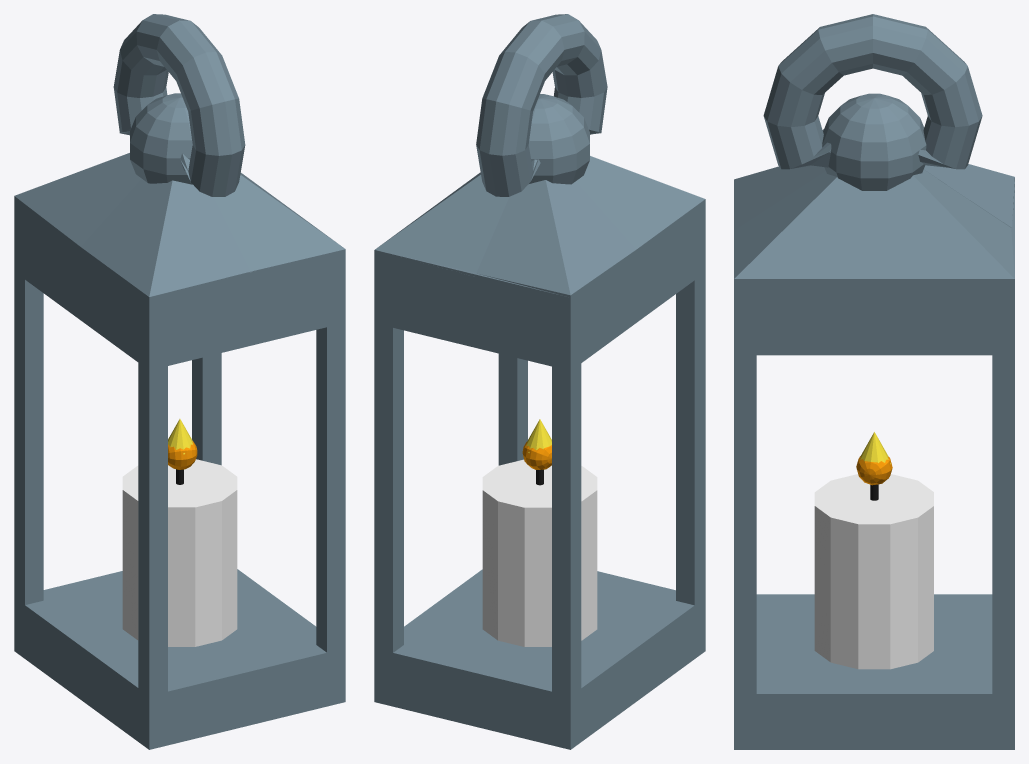
Rendered from Lantern.glb.
3 renders of one model, left to right at view 1: azimuth 30°, elevation 25°; view 2: azimuth 150°, elevation 25°; view 3: azimuth 270°, elevation 25°, orthographic. The views are drawn at different scales.
Visible parts, largest first — view 1: group742429619, group1469283349, group101961705, group1114461982, group679893746, group28753334, group557656270, group192331714, group642200812, group1037042815, group579893713, group1057982364 (+1 smaller); view 2: group742429619, group1469283349, group101961705, group1114461982, group642200812, group192331714, group1057982364, group28753334, group964451017, group679893746, group579893713, group557656270 (+1 smaller); view 3: group742429619, group101961705, group1469283349, group1114461982, group1037042815, group964451017, group557656270, group1057982364, group579893713, group679893746, group642200812, group2092413557 (+1 smaller).
Part boxes in pixels (x1,y1,x2,y2): group742429619: (14,569,345,749); group1469283349: (14,226,345,370); group101961705: (122,459,237,646); group1114461982: (113,14,245,196); group679893746: (80,179,250,316); group28753334: (138,309,167,729); group557656270: (316,269,345,652); group192331714: (14,218,43,604); group642200812: (14,153,141,246); group1037042815: (214,174,345,272); group579893713: (130,93,192,184); group1057982364: (192,353,221,465); group742429619: (374,569,705,749); group1469283349: (378,226,705,370); group101961705: (482,459,597,646); group1114461982: (476,14,607,196); group642200812: (476,180,636,317); group192331714: (552,310,581,730); group1057982364: (374,272,403,686); group28753334: (676,219,705,637); group964451017: (374,174,509,277); group679893746: (576,156,705,248); group579893713: (528,94,589,184); group557656270: (498,353,527,465); group742429619: (734,594,1014,749); group101961705: (814,474,933,669); group1469283349: (734,182,1014,355); group1114461982: (763,14,982,169); group1037042815: (734,171,882,299); group964451017: (879,170,1014,279); group557656270: (734,299,756,729); group1057982364: (992,355,1014,729); group579893713: (822,93,926,190); group679893746: (734,165,825,229); group642200812: (923,164,1014,227); group2092413557: (856,456,892,485).
Size of the model in its own units: 0.84 by 2.68 by 1.
